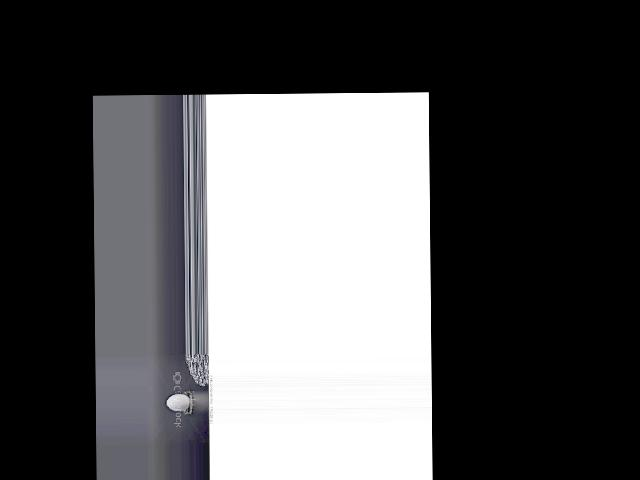egg: (167, 394, 190, 411)
